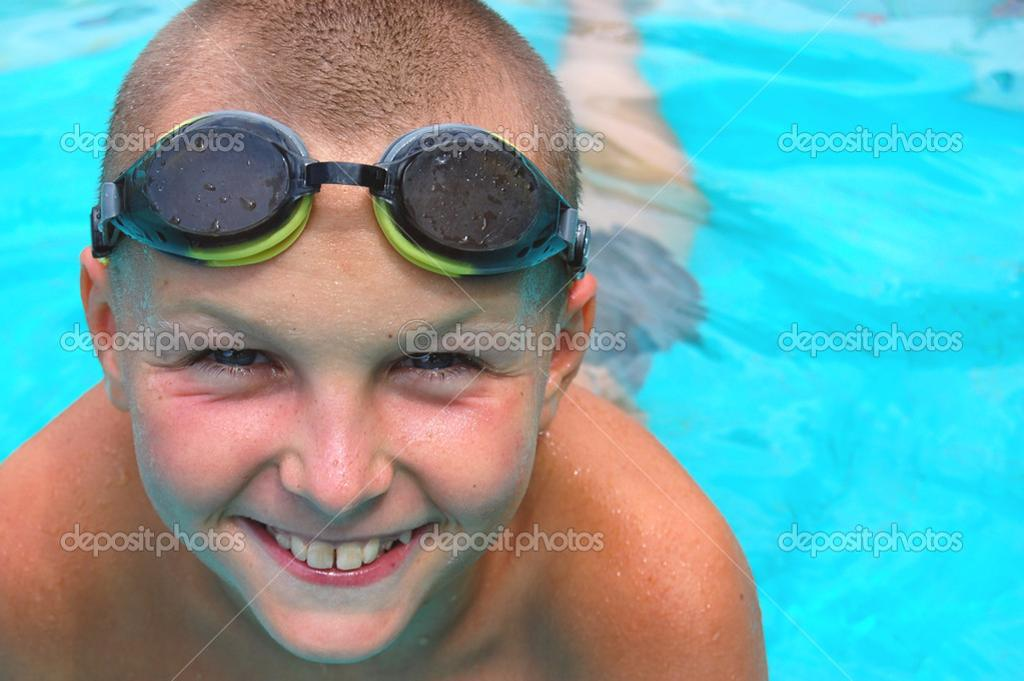face: (119, 127, 553, 669)
